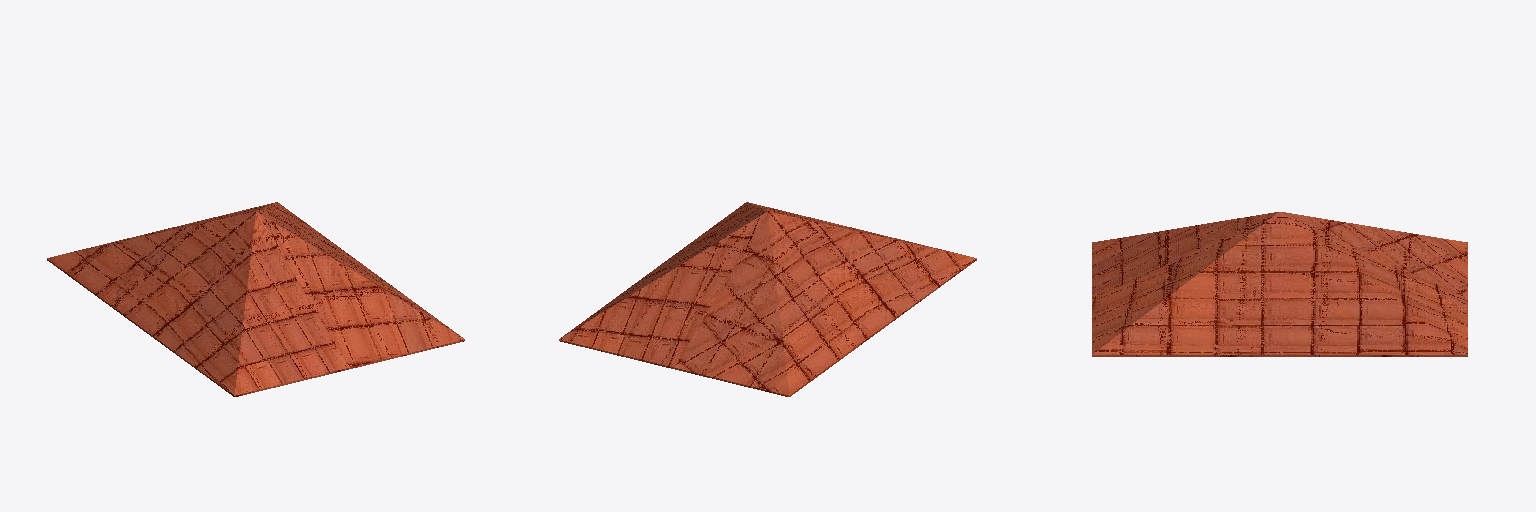
The picture shows the model from 3 angles: view 1: azimuth 30°, elevation 25°; view 2: azimuth 150°, elevation 25°; view 3: azimuth 270°, elevation 25°; orthographic projection.
Parts seen in each view (by area): view 1: Roof; view 2: Roof; view 3: Roof.
Boxes of the visible parts, x1=… form: Roof: x1=47, y1=202, x2=464, y2=396; Roof: x1=559, y1=202, x2=976, y2=396; Roof: x1=1092, y1=212, x2=1467, y2=356.
Bounding box in the file's own units: 7.08 × 2.61 × 9.99.
1 materials, 1 textured.